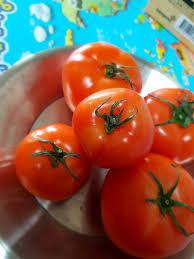tomato: (101, 149, 193, 252), (14, 123, 91, 199), (61, 40, 144, 110), (77, 89, 148, 165), (144, 82, 192, 167)
